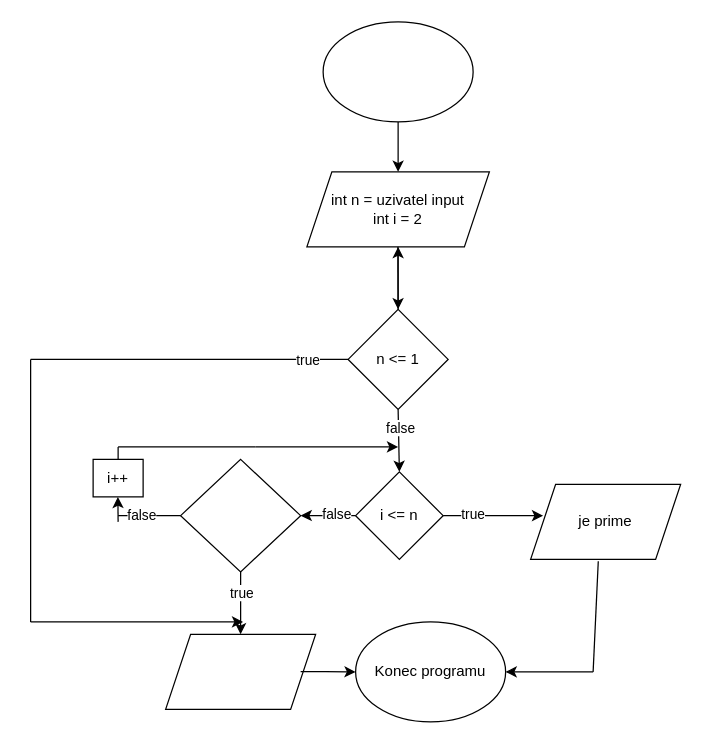
This 703x744 diagram has some shape labels left out. The centre of each missing label's shape, as x and y in pixels:
"n % i == 0 && i != n" goes at [240,515].
"neni prime" goes at [240,671].
"Start programu" goes at [397,71].
